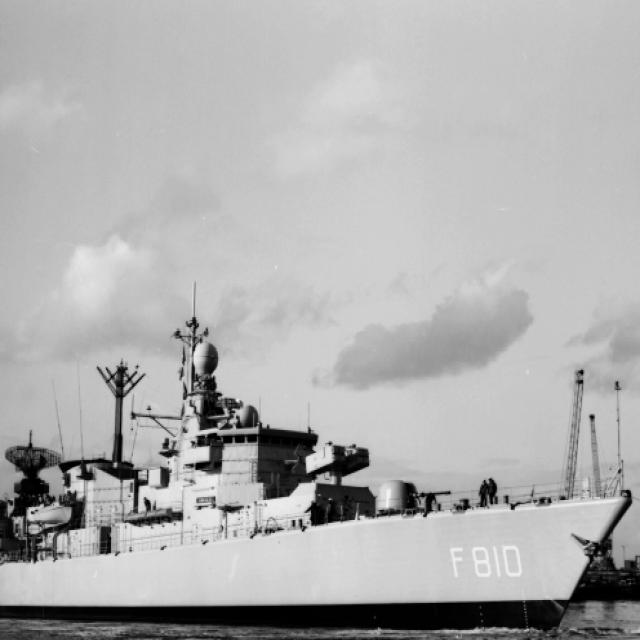Fragata: (1, 283, 638, 635)
